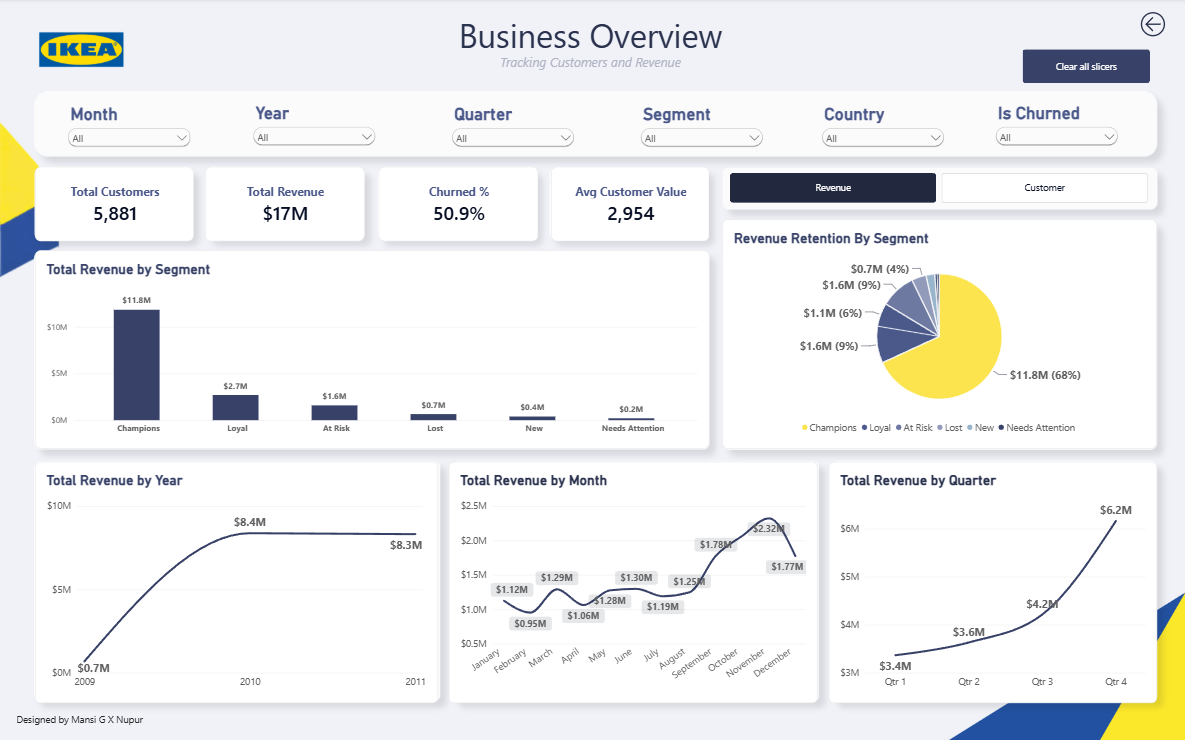

The dashboard page shown, as its layout file describes it:
{"tool":"powerbi","page":{"name":"Overview","canvas":[1750,1100],"ordinal":1},"visuals":[{"type":"cardVisual","fields":{"Data":["Sheet1.Total_Customer"]},"box":[51.7,248.3,234.2,110],"z":0},{"type":"pieChart","title":"Revenue Retention By Segment","fields":{"Category":["Sheet1.Segment","Sheet1.IsChurned"],"Series":["Sheet1.IsChurned"],"Y":["Sheet1.Total_Revenue"]},"box":[1066,326,640,338],"z":0,"group":"g1"},{"type":"cardVisual","fields":{"Data":["Sheet1.Total_Revenue"]},"box":[302.5,248.5,235,110],"z":1000},{"type":"columnChart","title":"Total Revenue by Segment","fields":{"Category":["Sheet1.Segment"],"Y":["Sheet1.Total_Revenue"]},"box":[52,372,994,292],"z":1000,"group":"g1"},{"type":"cardVisual","fields":{"Data":["Sheet1.Churned %"]},"box":[558,248.5,235,110],"z":2000},{"type":"lineChart","title":"Total Revenue by Year","fields":{"Category":["Sheet1.InvoiceMonth.Variation.Date Hierarchy.Year"],"Y":["Sheet1.Total_Revenue"]},"box":[52,684,594,356],"z":2000,"group":"g1"},{"type":"cardVisual","fields":{"Data":["Sheet1.Avg Customer Value"]},"box":[812.2,248.3,233.3,110],"z":3000},{"type":"lineChart","title":"Total Revenue by Month","fields":{"Category":["Sheet1.InvoiceMonth.Variation.Date Hierarchy.Month"],"Y":["Sheet1.Total_Revenue"]},"box":[662,684,544,356],"z":3000,"group":"g1"},{"type":"slicer","fields":{"Values":["Sheet1.InvoiceMonth.Variation.Date Hierarchy.Month"]},"box":[96.7,156.7,190,68.3],"z":4000},{"type":"lineChart","title":"Total Revenue by Quarter","fields":{"Category":["Sheet1.InvoiceMonth.Variation.Date Hierarchy.Quarter"],"Y":["Sheet1.Total_Revenue"]},"box":[1222,684,484,356],"z":4000,"group":"g1"},{"type":"slicer","fields":{"Values":["Sheet1.InvoiceMonth.Variation.Date Hierarchy.Year"]},"box":[368.3,155,190,72],"z":5000},{"type":"slicer","fields":{"Values":["Sheet1.InvoiceMonth.Variation.Date Hierarchy.Quarter"]},"box":[661.7,156.7,190,81.7],"z":6000},{"type":"slicer","fields":{"Values":["Sheet1.Segment"]},"box":[940,156.7,190,82],"z":7000},{"type":"slicer","fields":{"Values":["Sheet1.country"]},"box":[1206.7,156.7,190,83.8],"z":8000},{"type":"slicer","fields":{"Values":["Sheet1.IsChurned"]},"box":[1463.3,155,190,82.5],"z":9000},{"type":"group","id":"g1","title":"Revenue","box":[52,326,1654,714],"z":11000},{"type":"bookmarkNavigator","box":[1077.1,258.6,617.1,44.3],"z":12000},{"type":"textbox","box":[24,1054,262,46],"z":13000},{"type":"image","box":[0,22,240,108],"z":14000},{"type":"textbox","box":[677,22,396,102],"z":15000},{"type":"actionButton","box":[1650,2,100,74],"z":16000},{"type":"actionButton","box":[1508,76,188,50],"z":17000},{"type":"textbox","box":[737.3,81.1,276.5,40.5],"z":18000}]}

Visuals, with their boxes in screenshot pixels (x1, y1, x2, y2), scaled from the page's 1750x1100 canvas onto the 1185x740 screenshot:
cardVisual - Sheet1.Total_Customer: [35,167,194,241]
"Revenue Retention By Segment" pieChart: [722,219,1155,447]
cardVisual - Sheet1.Total_Revenue: [205,167,364,241]
"Total Revenue by Segment" columnChart: [35,250,708,447]
cardVisual - Sheet1.Churned %: [378,167,537,241]
"Total Revenue by Year" lineChart: [35,460,437,700]
cardVisual - Sheet1.Avg Customer Value: [550,167,708,241]
"Total Revenue by Month" lineChart: [448,460,817,700]
slicer - Sheet1.InvoiceMonth.Variation.Date Hierarchy.Month: [65,105,194,151]
"Total Revenue by Quarter" lineChart: [827,460,1155,700]
slicer - Sheet1.InvoiceMonth.Variation.Date Hierarchy.Year: [249,104,378,153]
slicer - Sheet1.InvoiceMonth.Variation.Date Hierarchy.Quarter: [448,105,577,160]
slicer - Sheet1.Segment: [637,105,765,161]
slicer - Sheet1.country: [817,105,946,162]
slicer - Sheet1.IsChurned: [991,104,1120,160]
"Revenue" group: [35,219,1155,700]
bookmarkNavigator: [729,174,1147,204]
textbox: [16,709,194,739]
image: [0,15,163,87]
textbox: [458,15,727,83]
actionButton: [1117,1,1184,51]
actionButton: [1021,51,1148,85]
textbox: [499,55,686,82]
